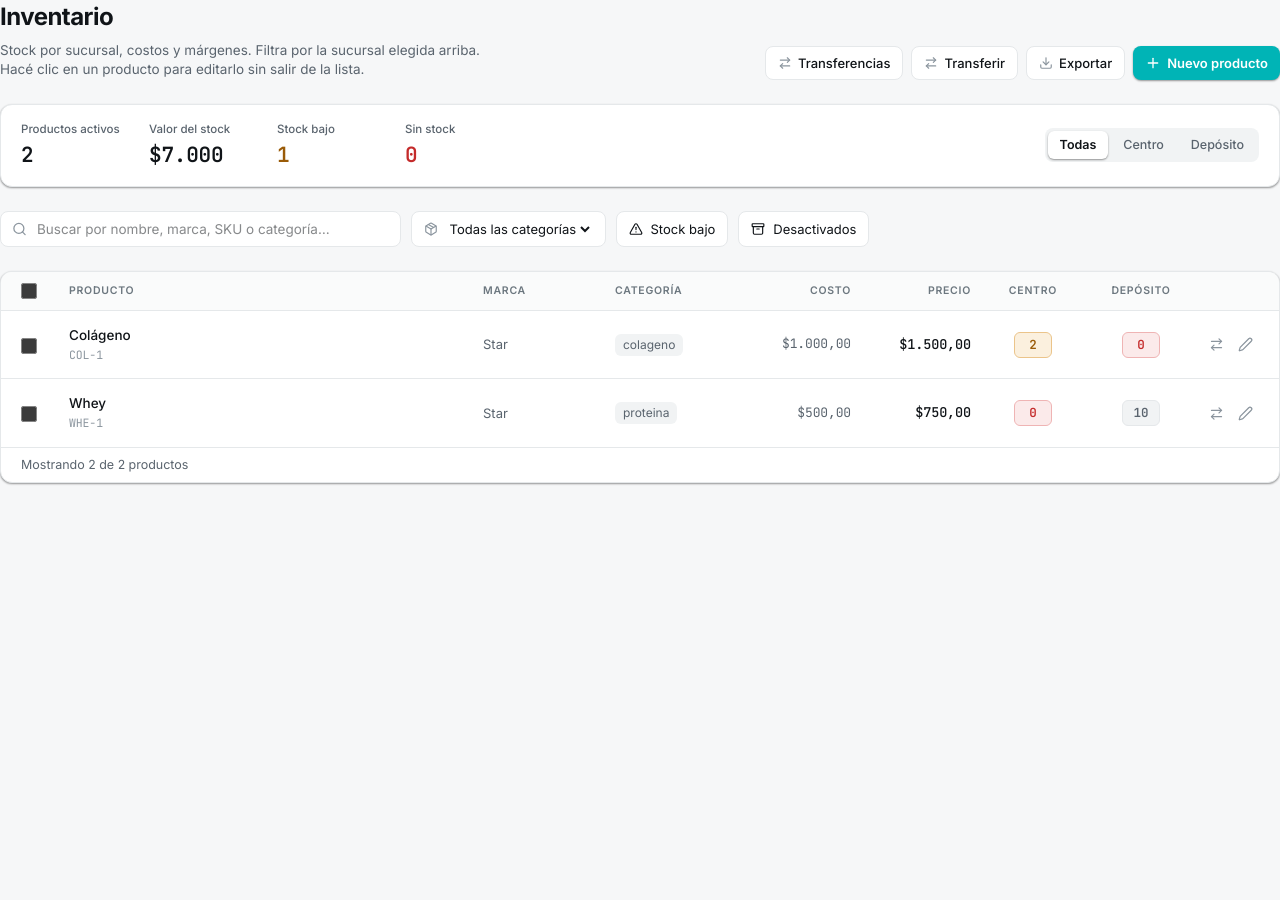
Test case: Un botón de acción de la fila no abre además el panel › «Transferir a otra sucursal» abre la transferencia y NO el panel del producto
The width and height of the screenshot is (1280, 900).
Click the 1st button titled "Transferir a otra sucursal" at (1216, 345), box top-left (1203, 330), bottom-right (1230, 359)
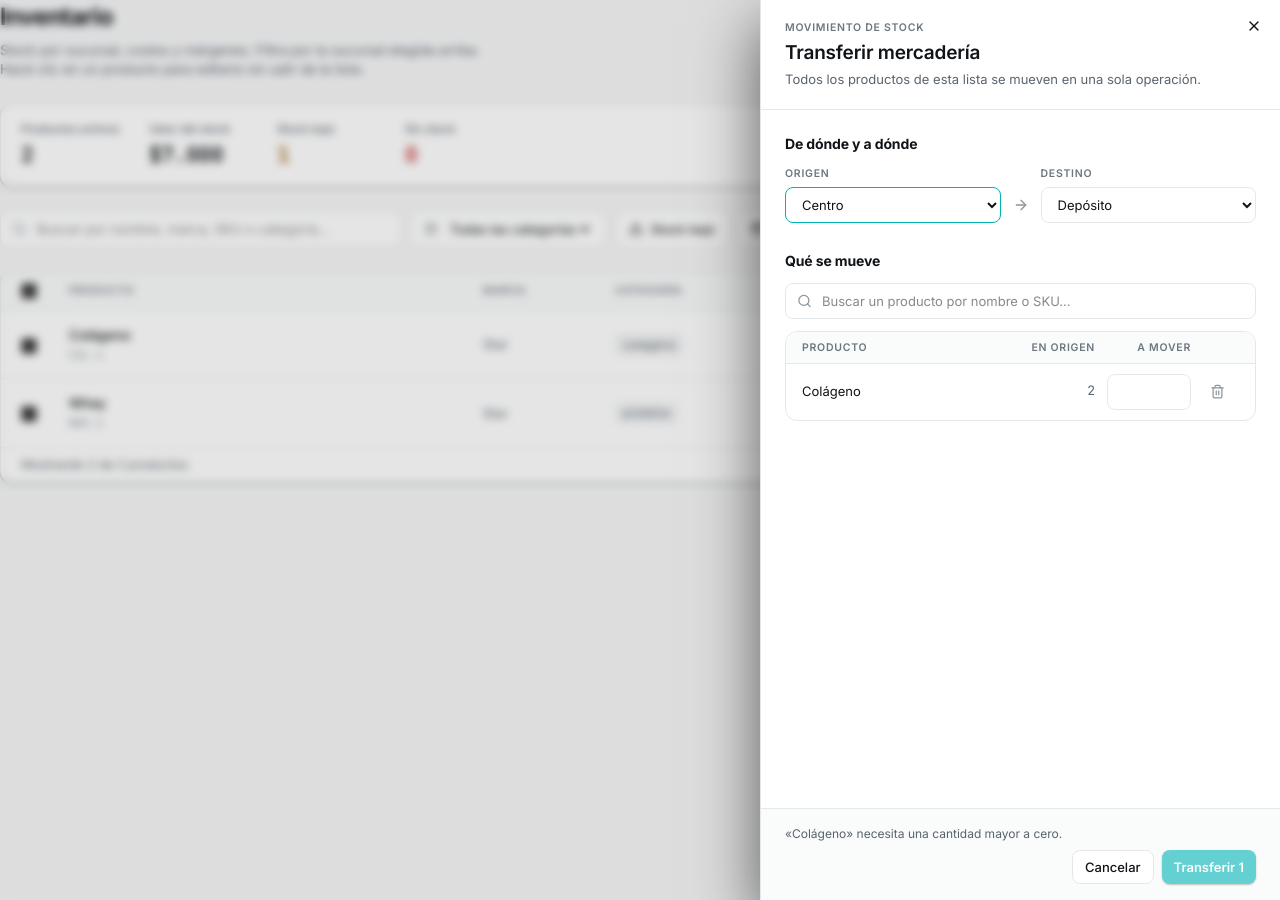
Result: the heading "Transferir mercadería" is shown at top-left (785, 41), bottom-right (980, 64)
